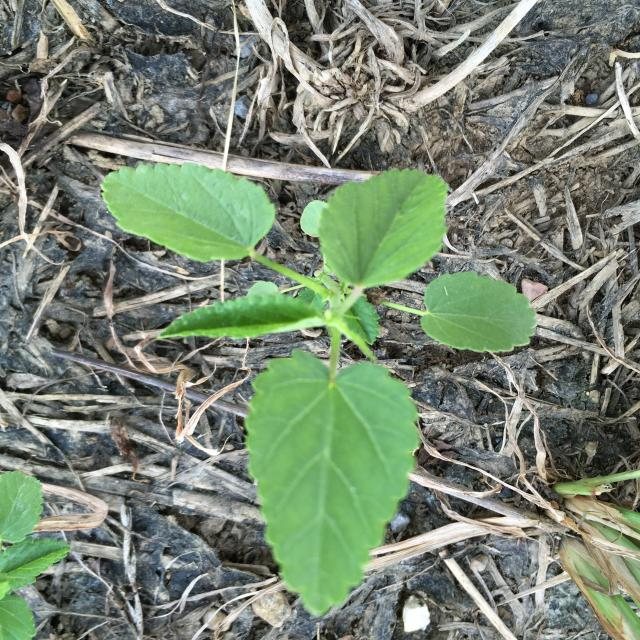PricklySida: (100, 161, 538, 617)
